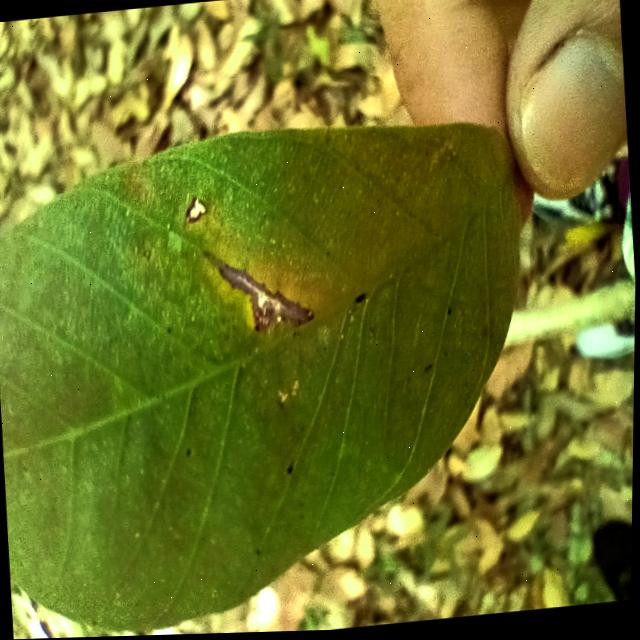Corynespora: (198, 242, 318, 342)
